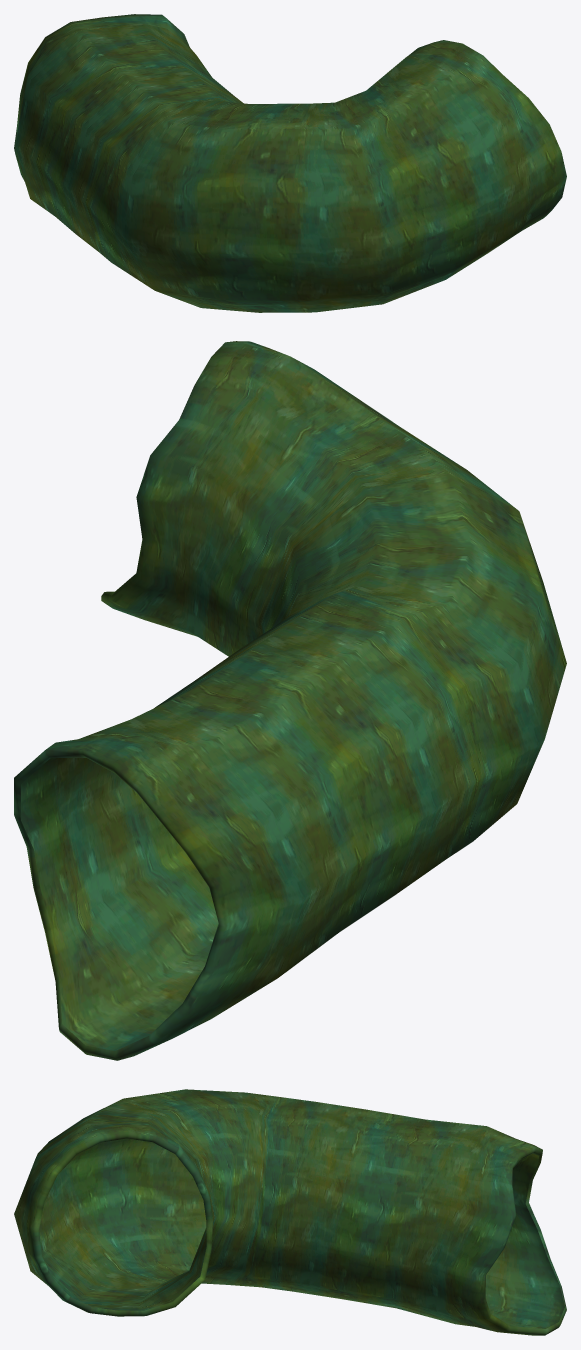
The model's file is MIRKWOOD_MIRK_PLAYSURFACE80.fbx.
3 renders of one model, top to bottom at view 1: azimuth 30°, elevation 25°; view 2: azimuth 150°, elevation 25°; view 3: azimuth 270°, elevation 25°, orthographic. The views are drawn at different scales.
Visible parts, largest first — view 1: MIRKWOOD_MIRK_PLAYSURFACE80; view 2: MIRKWOOD_MIRK_PLAYSURFACE80; view 3: MIRKWOOD_MIRK_PLAYSURFACE80.
Boxes of the visible parts, box(x1,y1,x2,y2) form: MIRKWOOD_MIRK_PLAYSURFACE80: box(14, 14, 566, 312); MIRKWOOD_MIRK_PLAYSURFACE80: box(14, 341, 566, 1060); MIRKWOOD_MIRK_PLAYSURFACE80: box(14, 1089, 566, 1335).
Size of the model in its own units: 98454 by 78843 by 150386.
Materials: 1 (1 with a texture image).
